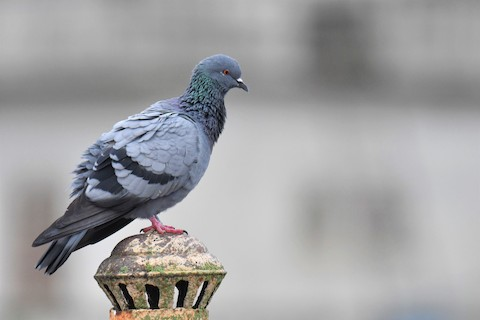pigeon: (27, 53, 250, 277)
